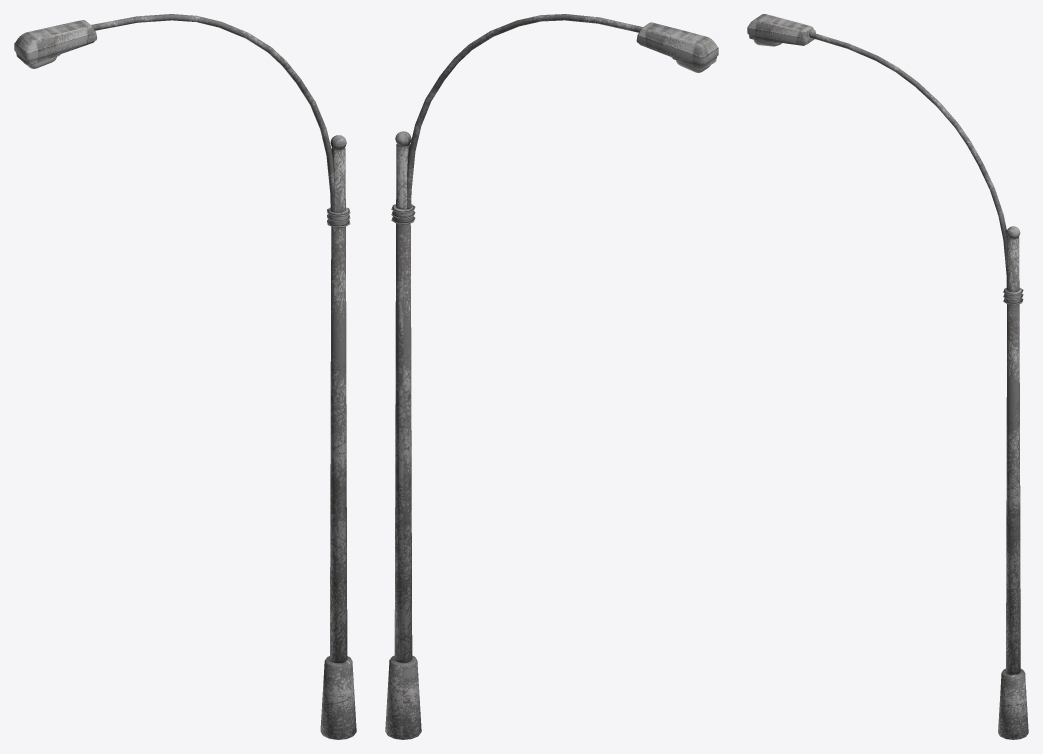
File: Lampost.fbx
The picture shows the model from 3 angles, left to right: view 1: azimuth 30°, elevation 25°; view 2: azimuth 150°, elevation 25°; view 3: azimuth 330°, elevation 25°; orthographic projection. The views are drawn at different scales.
Parts seen in each view (by area): view 1: polymsh10; view 2: polymsh10; view 3: polymsh10.
Boxes of the visible parts, x1,y1,x2,y2 form: polymsh10: [14, 14, 356, 739]; polymsh10: [385, 14, 718, 739]; polymsh10: [747, 14, 1028, 739].
Bounding box in the file's own units: 4.69 × 10.46 × 0.5598.
